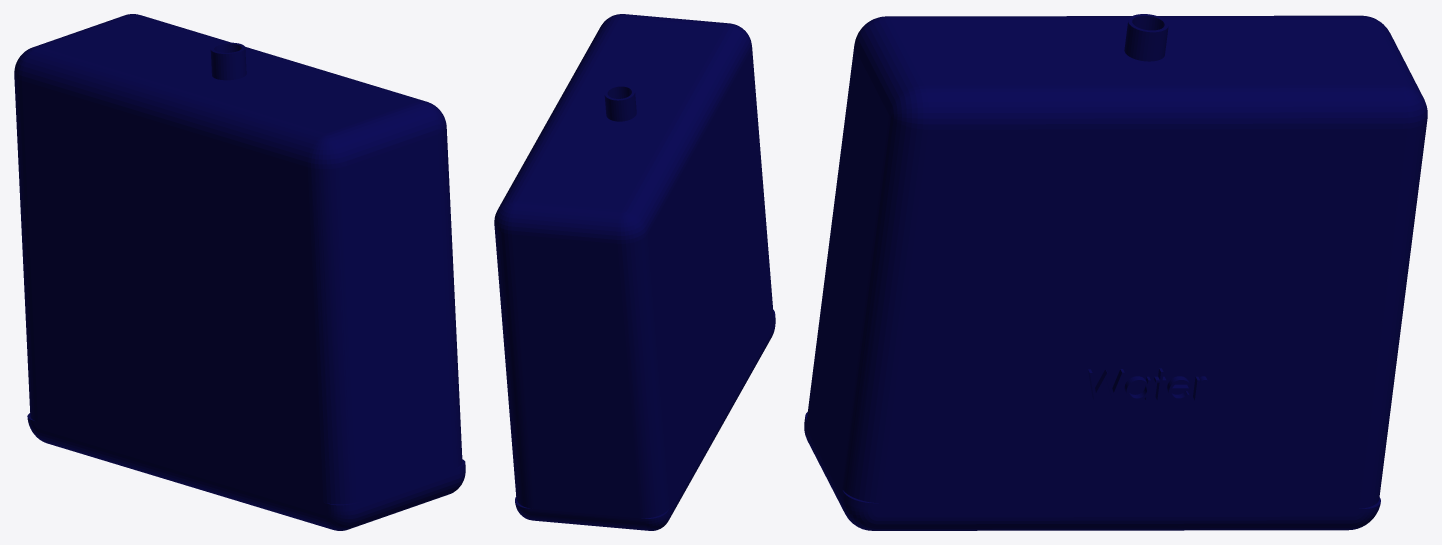
The model's file is bottle.glb.
The picture shows the model from 3 angles, left to right: view 1: azimuth 30°, elevation 25°; view 2: azimuth 150°, elevation 25°; view 3: azimuth 270°, elevation 25°; orthographic projection. The views are drawn at different scales.
Parts seen in each view (by area): view 1: bottle; view 2: bottle; view 3: bottle.
Boxes of the visible parts, x1=… form: bottle: x1=14, y1=14, x2=465, y2=530; bottle: x1=494, y1=14, x2=775, y2=530; bottle: x1=804, y1=14, x2=1427, y2=530.
Size of the model in its own units: 202 by 337 by 381.
